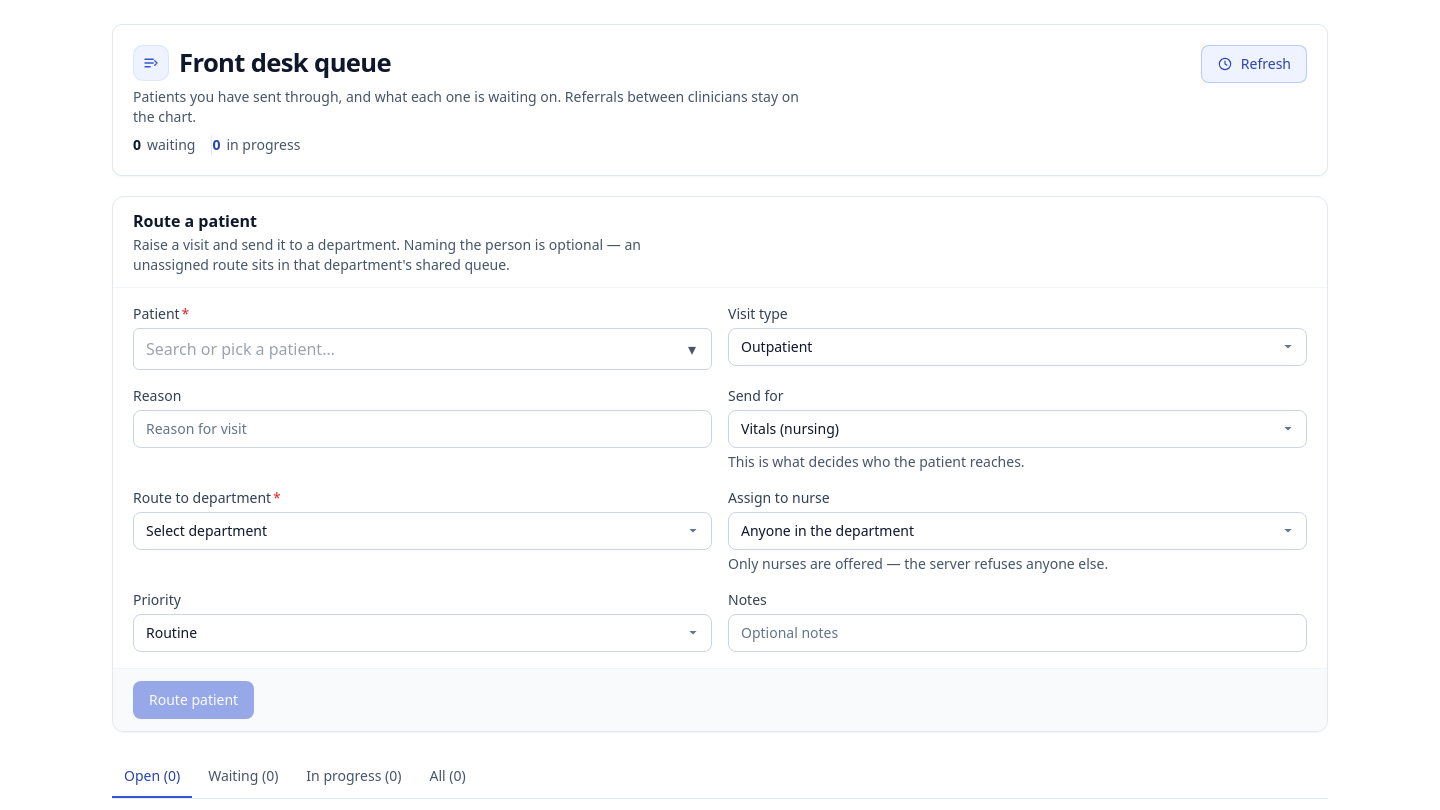
the front desk routing a patient to Ophthalmology › says what the server objected to rather than 'check the fields'
expect the dropdown labelled "Send for" is shown: met, box x1=728 y1=410 x2=1307 y2=448
Click the button named "open patient list": {"x": 692, "y": 349} x1=680 y1=328 x2=704 y2=370
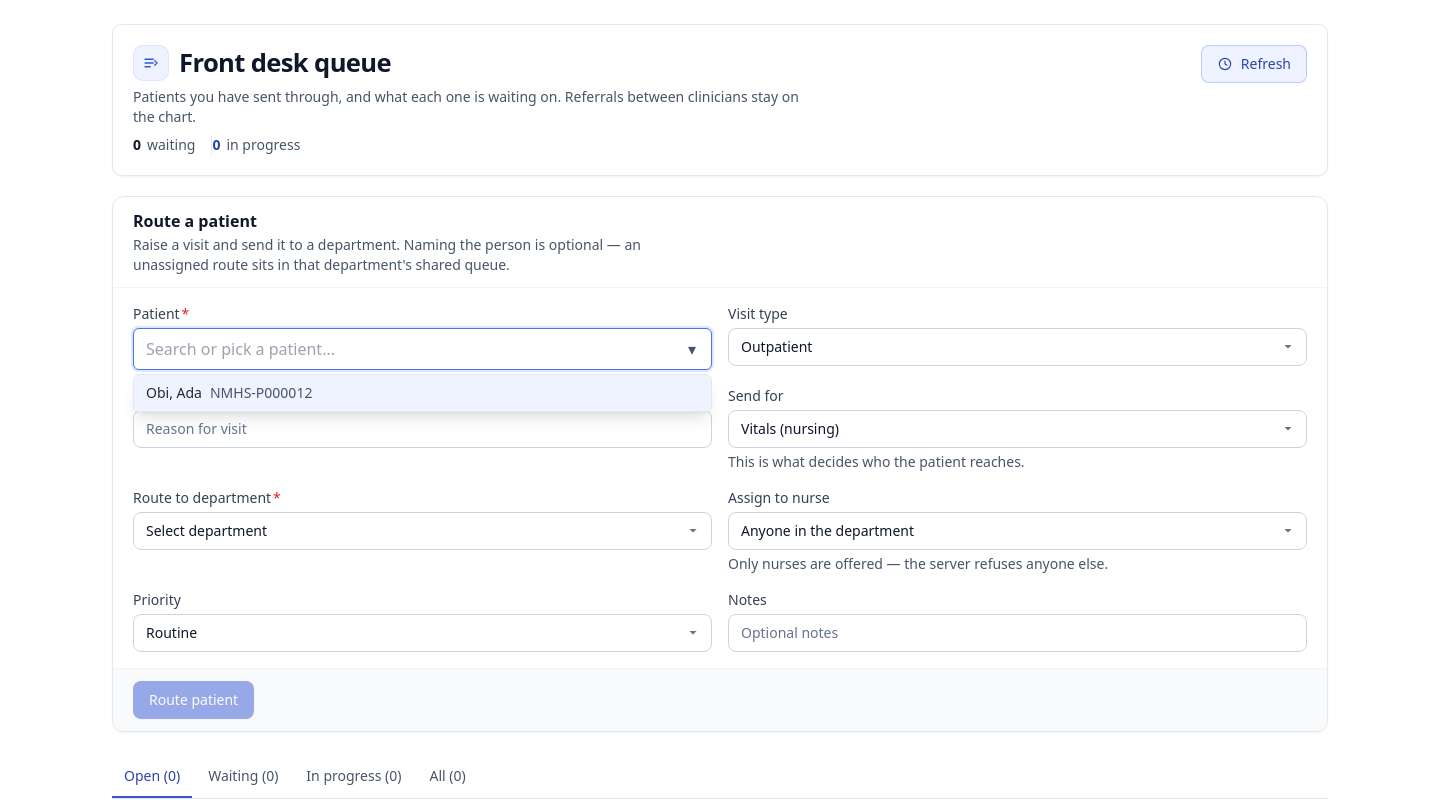
Click the button "Obi, Ada": {"x": 174, "y": 392} x1=134 y1=375 x2=711 y2=411
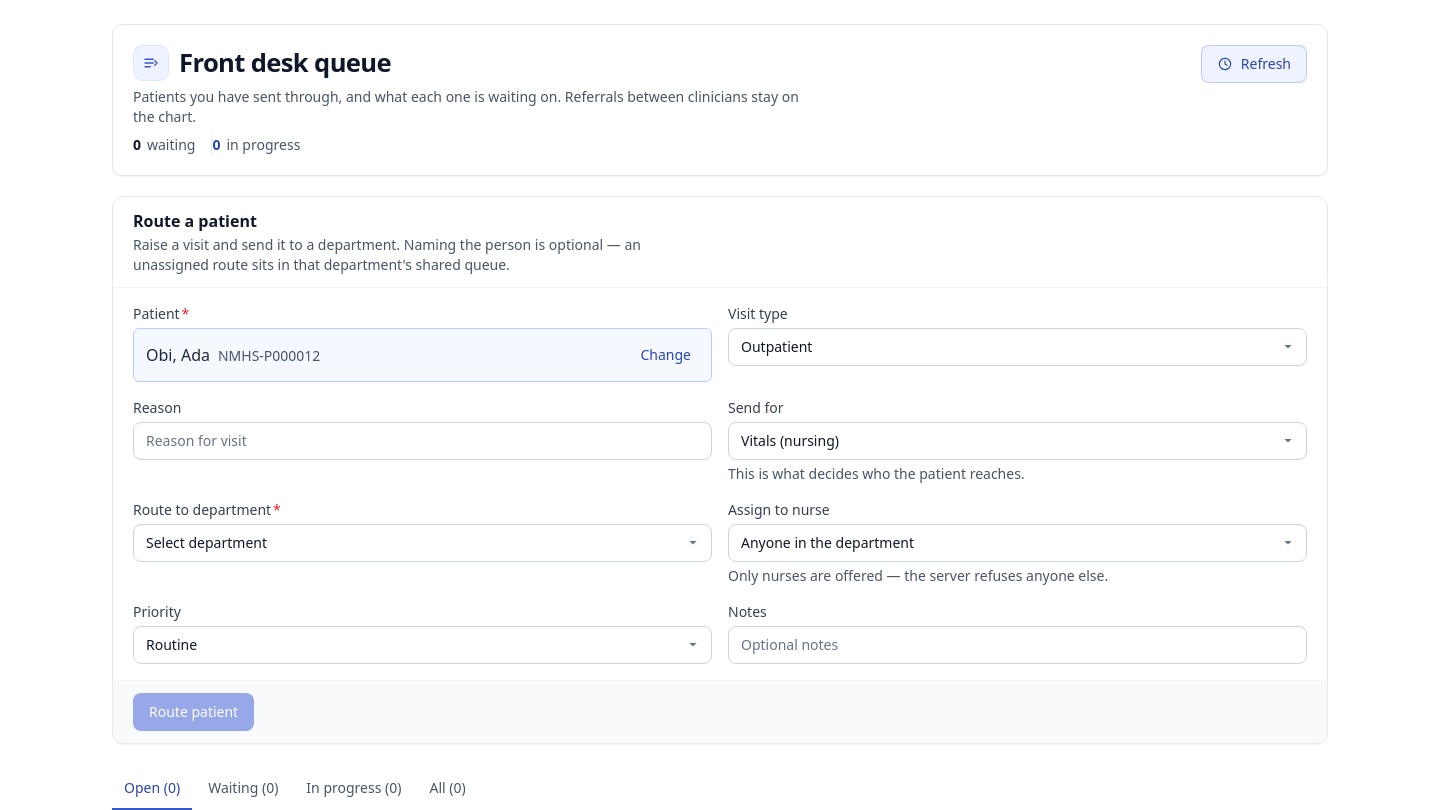
Select "Ophthalmology / Eye clinic" in the dropdown labelled "Send for": {"x": 1018, "y": 441} x1=728 y1=422 x2=1307 y2=460
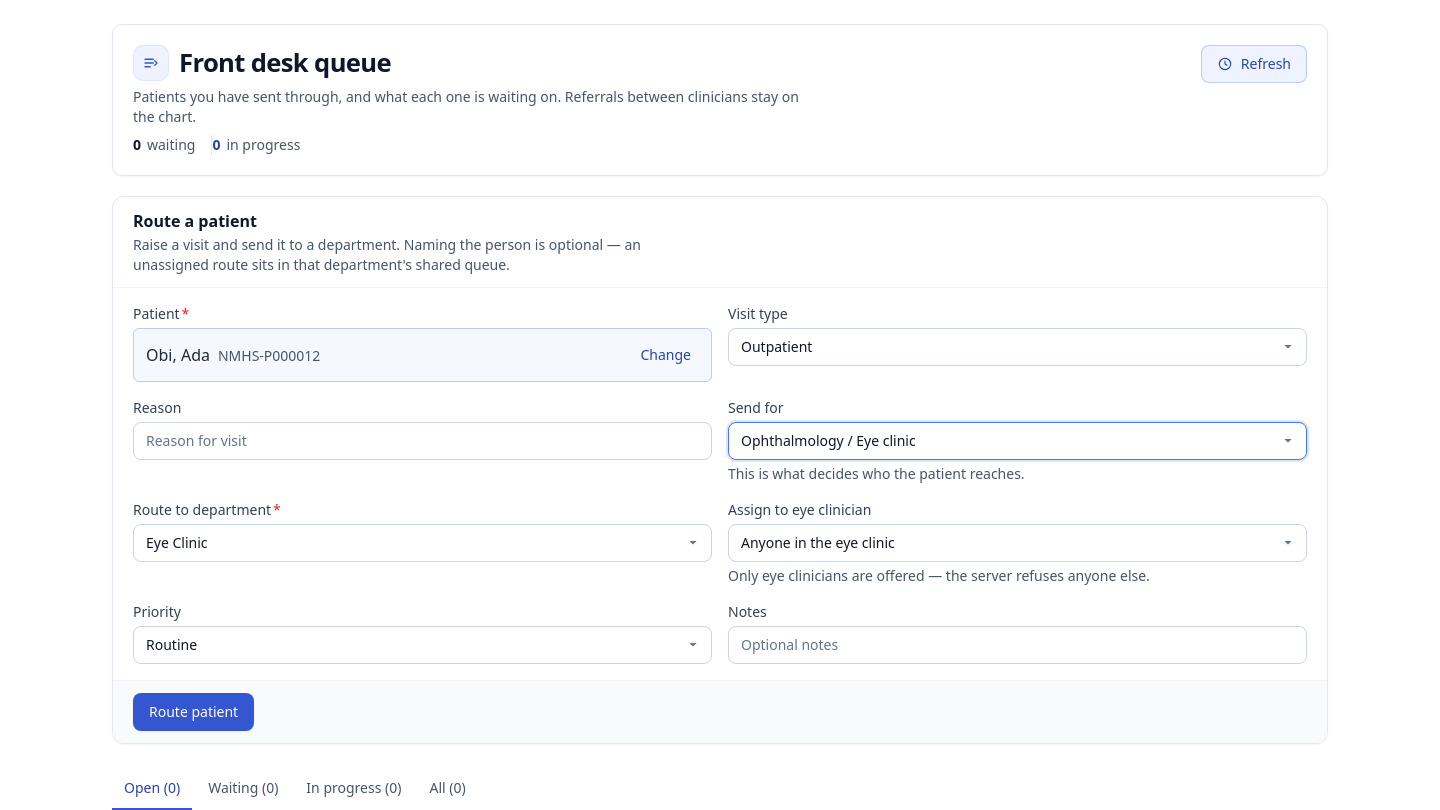
Click the button "Route patient": {"x": 194, "y": 712} x1=133 y1=693 x2=254 y2=731
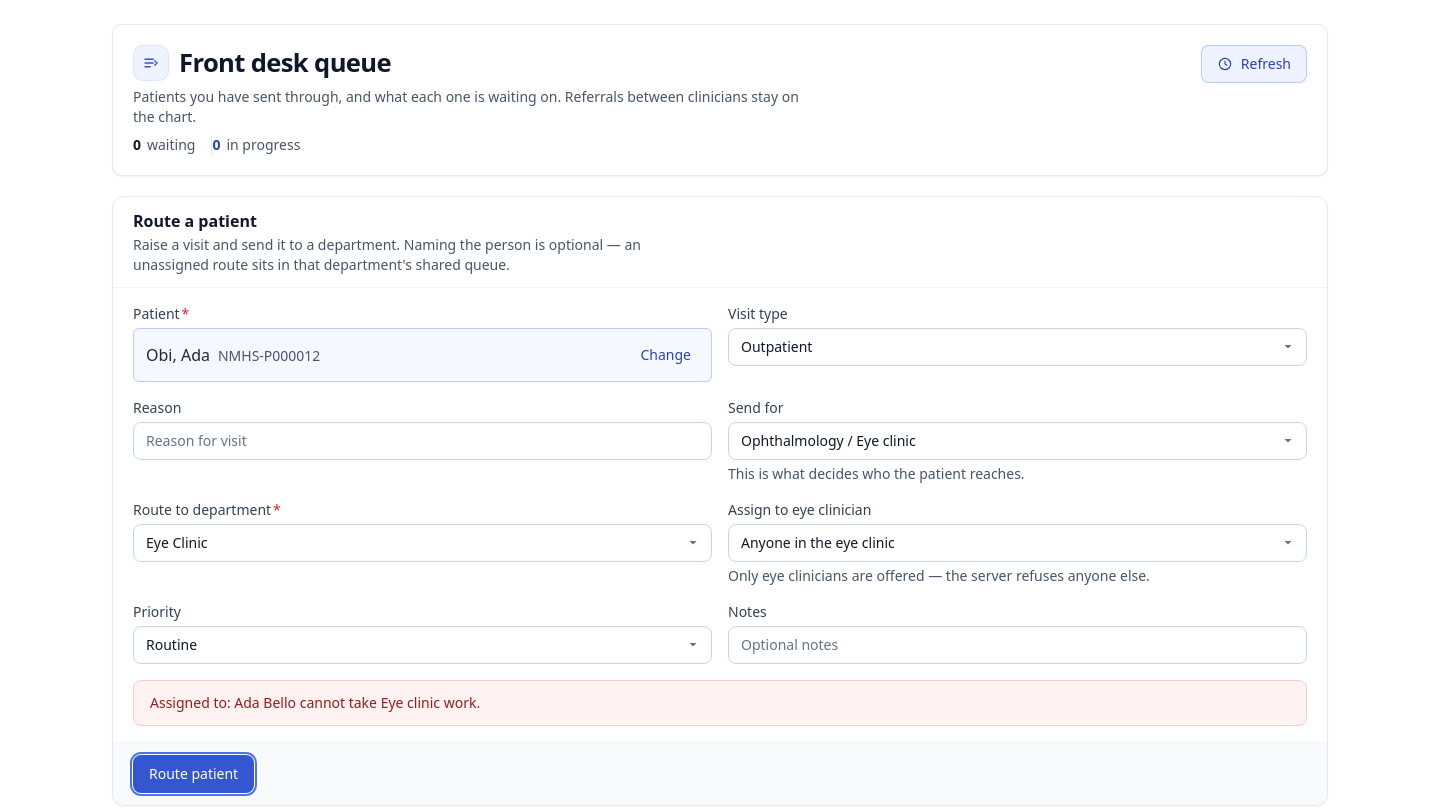
expect the text "Assigned to: Ada Bello cannot take Eye clinic work." is shown: met, box x1=150 y1=693 x2=480 y2=712
